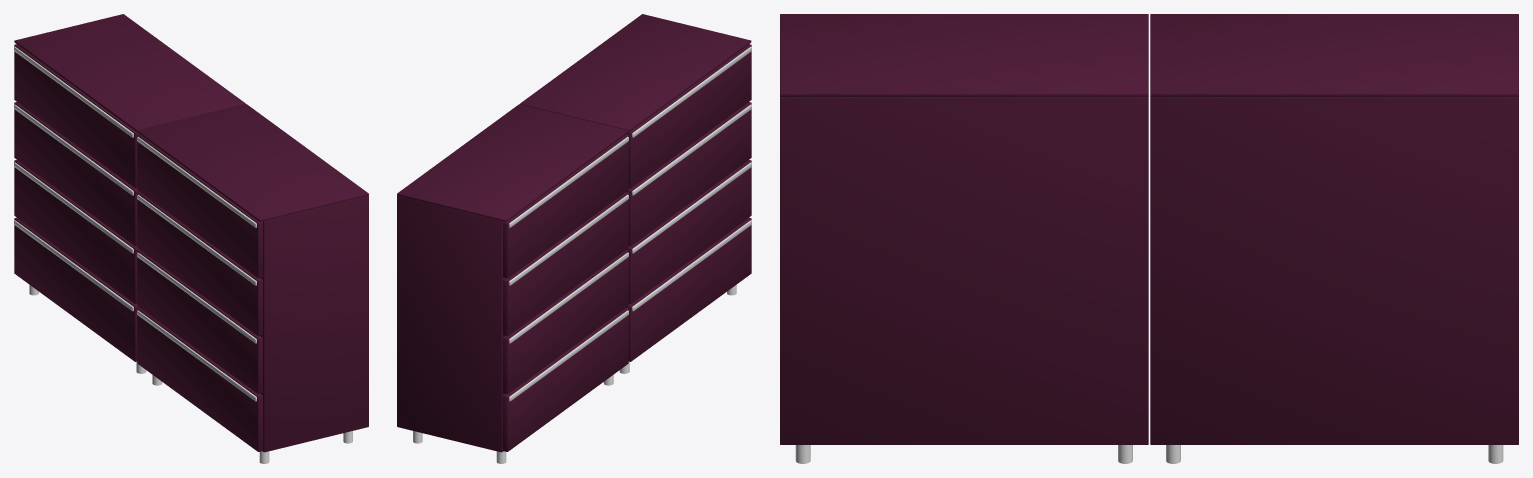
Rendered from recKK3pzBNJswQVcK.glb.
3 views of the same model, side by side, from view 1: azimuth 30°, elevation 25°; view 2: azimuth 150°, elevation 25°; view 3: azimuth 270°, elevation 25° (orthographic). The views are drawn at different scales.
Parts seen in each view (by area): view 1: buffet_aubergine_dressing_Corps; view 2: buffet_aubergine_dressing_Corps; view 3: buffet_aubergine_dressing_Corps.
Boxes of the visible parts, bbox=[...] form: buffet_aubergine_dressing_Corps: bbox=[14, 14, 368, 463]; buffet_aubergine_dressing_Corps: bbox=[397, 14, 751, 463]; buffet_aubergine_dressing_Corps: bbox=[780, 14, 1518, 463].
Size of the model in its own units: 0.4201 by 0.9 by 1.6.
